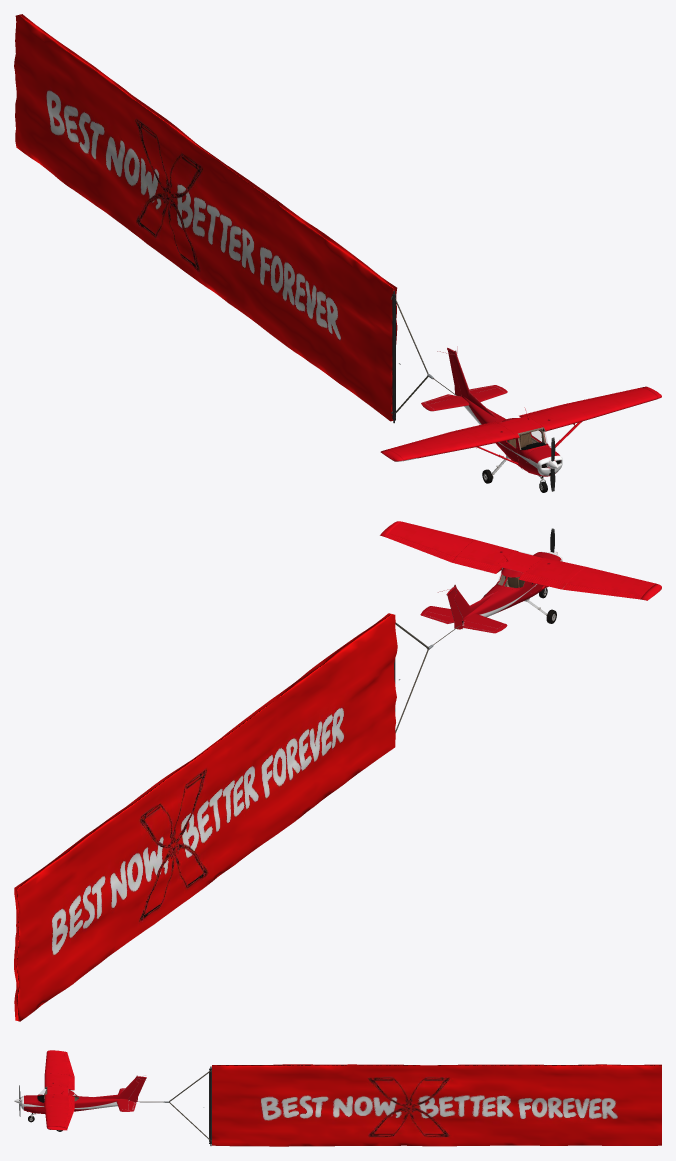
Rendered from TCCCAirplane_glb-optimized_V4.glb.
3 views of the same model, one above another, from view 1: azimuth 30°, elevation 25°; view 2: azimuth 150°, elevation 25°; view 3: azimuth 270°, elevation 25° (orthographic). The views are drawn at different scales.
Visible parts, largest first — view 1: 立方体, Flap_Bottom_L, Cowling_Top, Elevator; view 2: 立方体, Flap_Bottom_L, Cowling_Top, Elevator; view 3: 立方体, Flap_Bottom_L, Cowling_Top, Elevator, Plank_Small, Rudder, Rope_Small.
Part boxes in pixels (x1,y1,x2,y2): 立方体: (14, 14, 397, 421); Flap_Bottom_L: (380, 386, 661, 461); Cowling_Top: (453, 355, 560, 476); Elevator: (421, 385, 507, 411); 立方体: (14, 613, 397, 1021); Flap_Bottom_L: (380, 521, 661, 600); Cowling_Top: (454, 552, 561, 627); Elevator: (420, 606, 507, 633); 立方体: (212, 1064, 661, 1146); Flap_Bottom_L: (44, 1050, 74, 1130); Cowling_Top: (24, 1078, 138, 1113); Elevator: (116, 1088, 136, 1111); Plank_Small: (209, 1066, 211, 1145); Rudder: (129, 1075, 146, 1102); Rope_Small: (169, 1070, 211, 1141).
Bounding box in the file's own units: 188 × 89.37 × 654.
18 materials, 12 textured.
